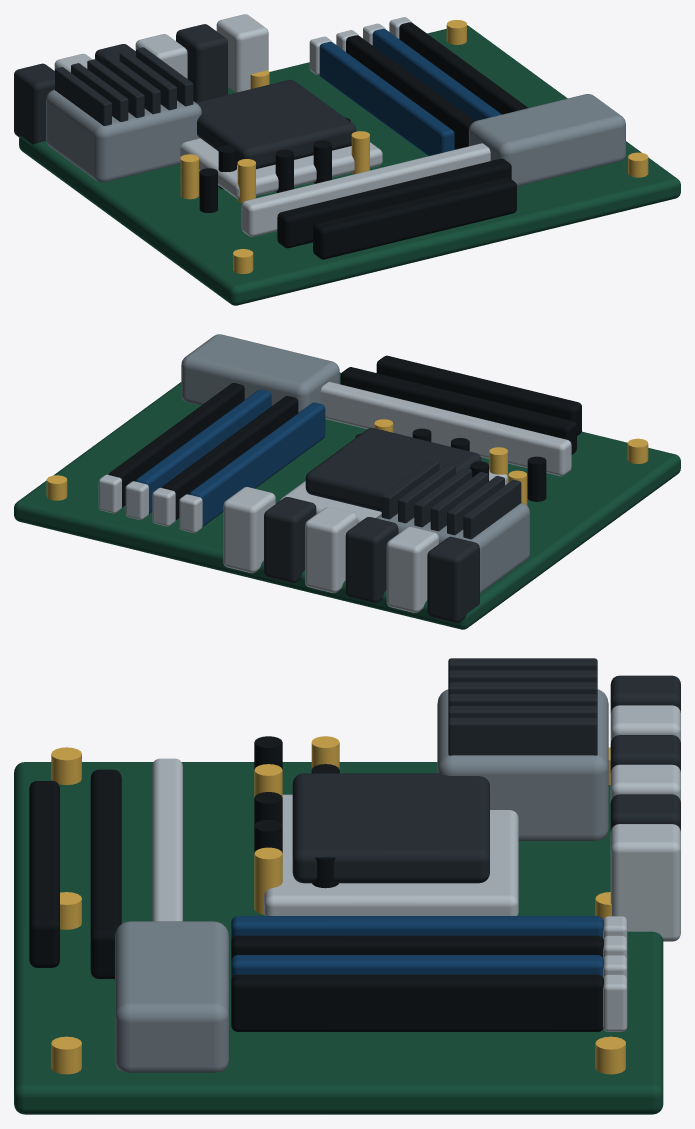
Rendered from motherboard.glb.
3 renders of one model, top to bottom at view 1: azimuth 30°, elevation 25°; view 2: azimuth 150°, elevation 25°; view 3: azimuth 270°, elevation 25°, orthographic. The views are drawn at different scales.
Visible parts, largest first — view 1: ATX PCB, PCIe slot (×3), DIMM slot (×4), Detailed ATX motherboard, Chipset heatsink, Rear IO port (×4), CPU cover, VRM heatsink, Capacitor (×7), CPU socket; view 2: ATX PCB, Rear IO port (×6), PCIe slot (×3), DIMM slot (×4), Detailed ATX motherboard, Chipset heatsink, CPU cover, VRM heatsink, Capacitor (×2), CPU socket; view 3: ATX PCB, DIMM slot (×4), Detailed ATX motherboard, CPU cover, Rear IO port (×6), Chipset heatsink, PCIe slot (×3), VRM heatsink, CPU socket, Capacitor (×6).
Part boxes in pixels (x1=…): ATX PCB: x1=19, y1=25, x2=680, y2=305; PCIe slot (×3): x1=241, y1=143, x2=516, y2=259; DIMM slot (×4): x1=319, y1=22, x2=527, y2=155; Detailed ATX motherboard: x1=55, y1=17, x2=648, y2=273; Chipset heatsink: x1=469, y1=94, x2=625, y2=186; Rear IO port (×4): x1=14, y1=14, x2=268, y2=144; CPU cover: x1=196, y1=79, x2=356, y2=169; VRM heatsink: x1=46, y1=89, x2=201, y2=181; Capacitor (×7): x1=180, y1=131, x2=369, y2=212; CPU socket: x1=180, y1=138, x2=382, y2=198; ATX PCB: x1=14, y1=372, x2=680, y2=629; Rear IO port (×6): x1=223, y1=487, x2=479, y2=622; PCIe slot (×3): x1=320, y1=355, x2=581, y2=476; DIMM slot (×4): x1=109, y1=383, x2=325, y2=526; Detailed ATX motherboard: x1=46, y1=438, x2=648, y2=539; Chipset heatsink: x1=181, y1=334, x2=339, y2=412; CPU cover: x1=305, y1=428, x2=481, y2=511; VRM heatsink: x1=376, y1=502, x2=529, y2=593; Capacitor (×2): x1=489, y1=447, x2=546, y2=501; CPU socket: x1=280, y1=469, x2=507, y2=523; ATX PCB: x1=14, y1=762, x2=663, y2=1114; DIMM slot (×4): x1=231, y1=916, x2=603, y2=1031; Detailed ATX motherboard: x1=51, y1=658, x2=627, y2=1074; CPU cover: x1=292, y1=773, x2=489, y2=883; Rear IO port (×6): x1=610, y1=675, x2=680, y2=941; Chipset heatsink: x1=115, y1=921, x2=228, y2=1072; PCIe slot (×3): x1=29, y1=758, x2=182, y2=978; VRM heatsink: x1=437, y1=689, x2=608, y2=840; CPU socket: x1=264, y1=794, x2=518, y2=915; Capacitor (×6): x1=254, y1=736, x2=339, y2=914.
Size of the model in its own units: 1.78 by 0.3575 by 1.52.
